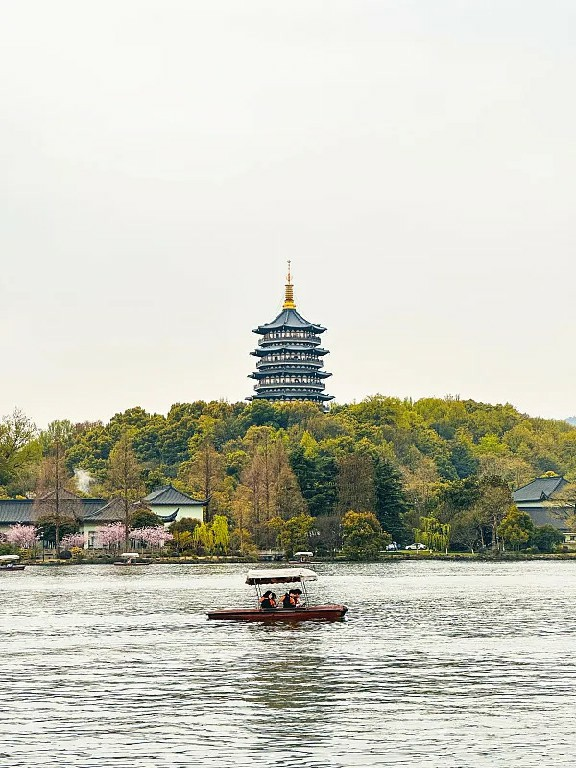Leifeng: (246, 257, 335, 413)
